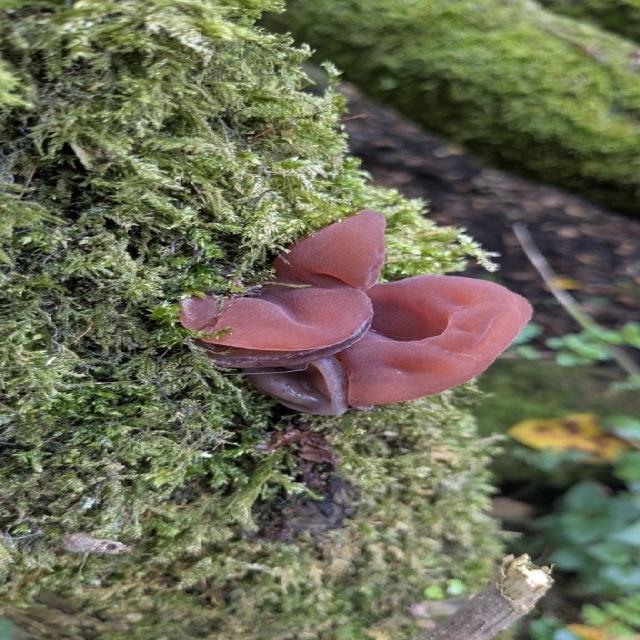Matang: (174, 202, 398, 381), (311, 270, 543, 409), (224, 352, 343, 418)
